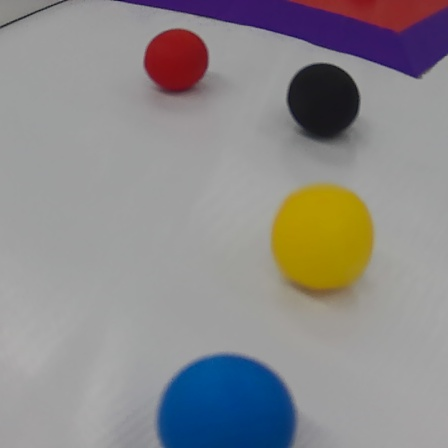black: (286, 61, 373, 140)
blue: (154, 351, 329, 448)
red: (141, 26, 215, 100)
red_aim: (95, 0, 448, 80)
yellow: (270, 183, 379, 295)
